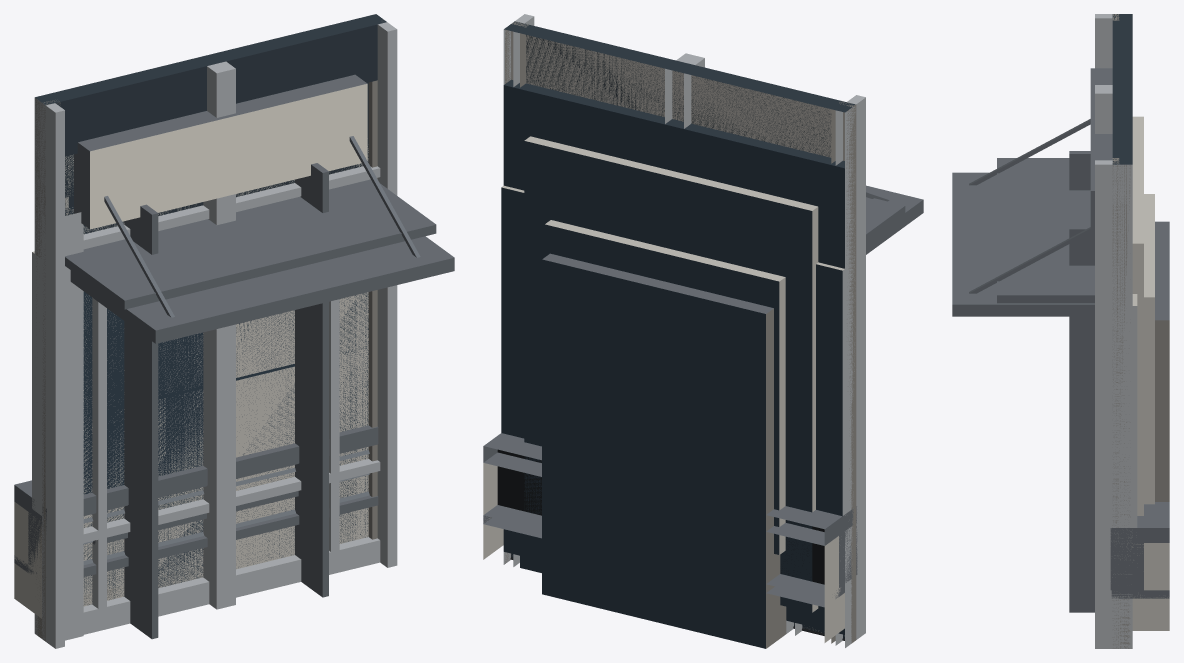
The model's file is modern-CNMGnkG5.glb.
3 renders of one model, left to right at view 1: azimuth 30°, elevation 25°; view 2: azimuth 150°, elevation 25°; view 3: azimuth 270°, elevation 25°, orthographic. The views are drawn at different scales.
Parts seen in each view (by area): view 1: modern__g_shop, modern__g_lobby, modern__curtain, modern__g_entry, modern__fins, modern__blank, modern__cap, modern__corner, modern__punched, modern__spandrel, modern__cap_screen, modern__ribbon (+1 smaller); view 2: modern__g_entry, modern__g_glass, modern__g_lobby, modern__ribbon, modern__g_shop, modern__punched, modern__cap, modern__cap_screen; view 3: modern__g_lobby, modern__g_shop, modern__g_entry, modern__fins, modern__curtain, modern__ribbon, modern__cap, modern__g_glass, modern__punched, modern__cap_screen.
Part boxes in pixels (bbox=[...]): modern__g_shop: bbox=[35, 19, 436, 641]; modern__g_lobby: bbox=[34, 14, 397, 648]; modern__curtain: bbox=[42, 157, 380, 644]; modern__g_entry: bbox=[70, 136, 454, 631]; modern__fins: bbox=[124, 163, 328, 639]; modern__blank: bbox=[69, 152, 368, 605]; modern__cap: bbox=[14, 425, 380, 634]; modern__corner: bbox=[65, 208, 83, 640]; modern__punched: bbox=[69, 208, 368, 605]; modern__spandrel: bbox=[65, 166, 380, 604]; modern__cap_screen: bbox=[14, 450, 378, 605]; modern__ribbon: bbox=[32, 150, 377, 604]; modern__g_entry: bbox=[503, 85, 923, 648]; modern__g_glass: bbox=[511, 31, 844, 612]; modern__g_lobby: bbox=[503, 14, 865, 647]; modern__ribbon: bbox=[501, 185, 852, 636]; modern__g_shop: bbox=[505, 21, 905, 643]; modern__punched: bbox=[510, 220, 844, 640]; modern__cap: bbox=[483, 433, 856, 642]; modern__cap_screen: bbox=[483, 449, 857, 607]; modern__g_lobby: bbox=[1095, 14, 1132, 648]; modern__g_shop: bbox=[997, 14, 1130, 648]; modern__g_entry: bbox=[952, 119, 1169, 501]; modern__fins: bbox=[1069, 151, 1094, 612]; modern__curtain: bbox=[1104, 265, 1119, 648]; modern__ribbon: bbox=[1119, 294, 1137, 535]; modern__cap: bbox=[1111, 502, 1169, 630]; modern__g_glass: bbox=[1132, 116, 1143, 515]; modern__punched: bbox=[1144, 194, 1154, 504]; modern__cap_screen: bbox=[1110, 528, 1169, 598].
Size of the model in its own units: 3.2 by 4.8 by 1.95.
